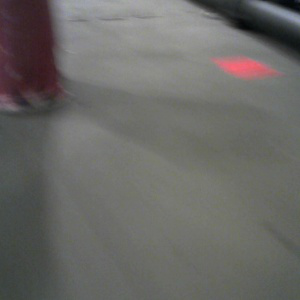right: (1, 1, 63, 112)
